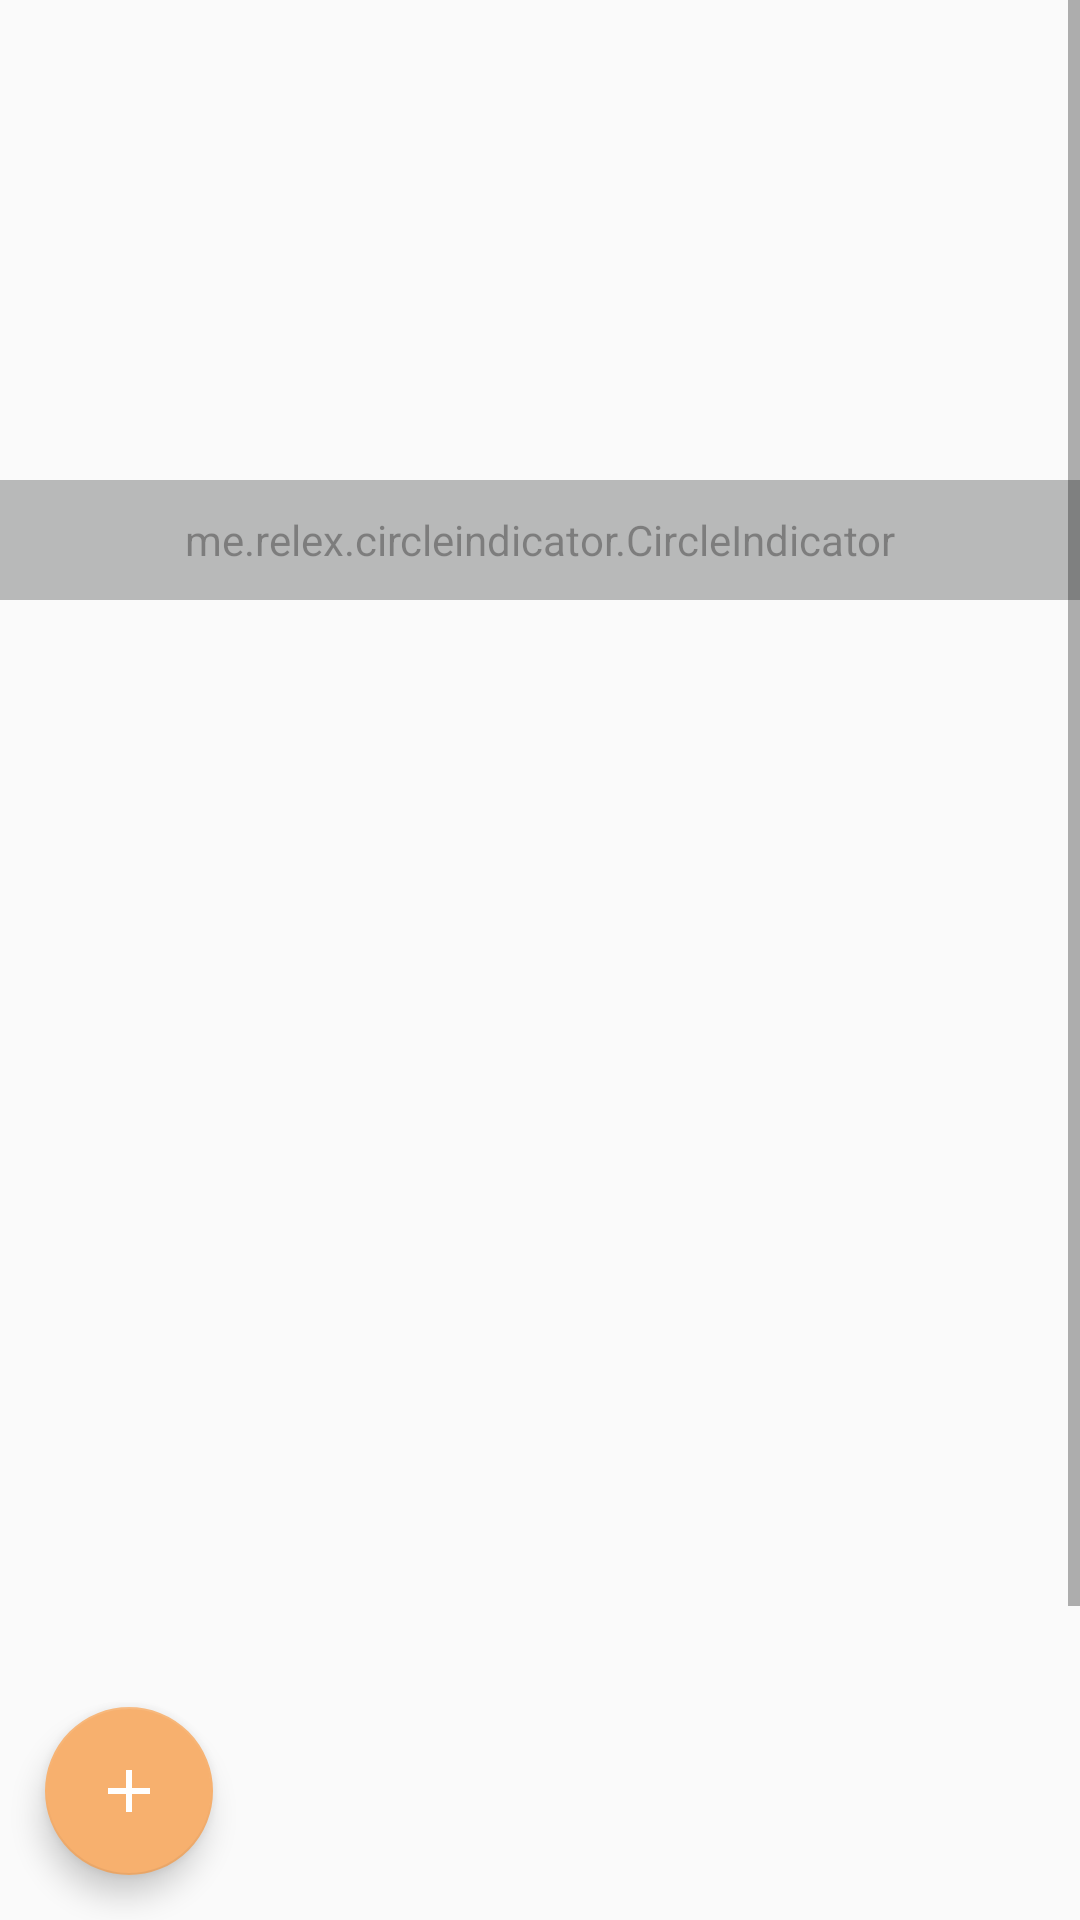

Screen size 1080x1920. Icon name, then its center in pixels as point (x, y):
plus: point (129, 1791)
